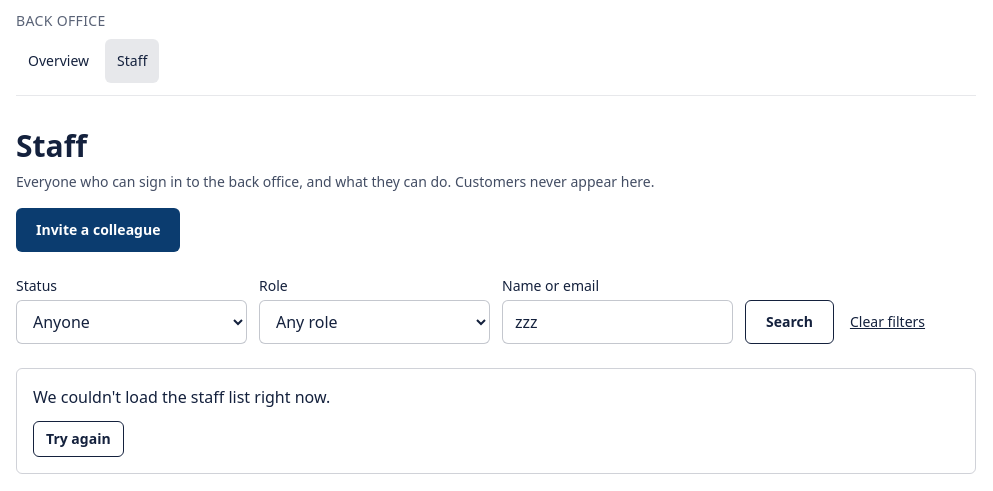
staff list › says when nothing matches and when it can't load
Click the button "Try again" at [78, 439], box [33,421,124,457]
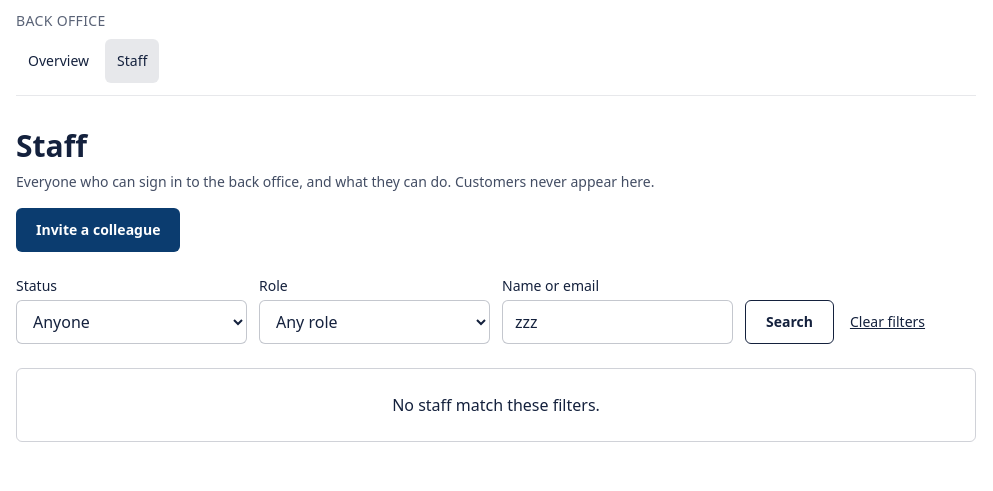
Now the text "No staff match these filters." is shown, box [16,368,976,442]
